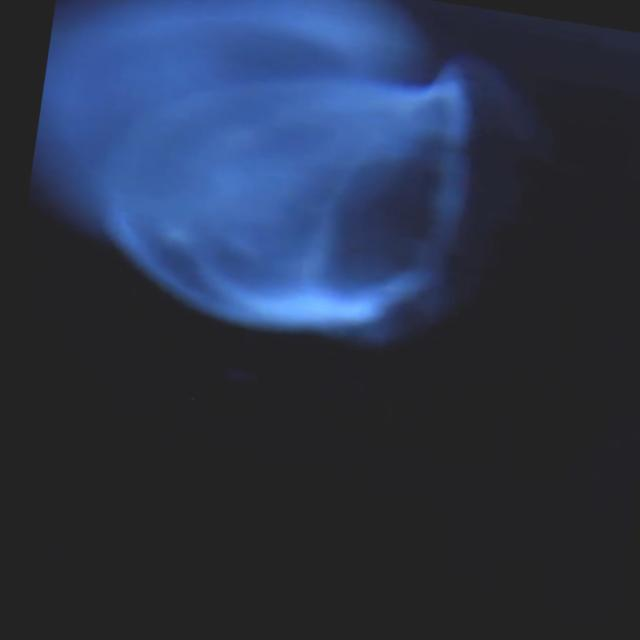Moon-jellyfish: (26, 0, 549, 350)
